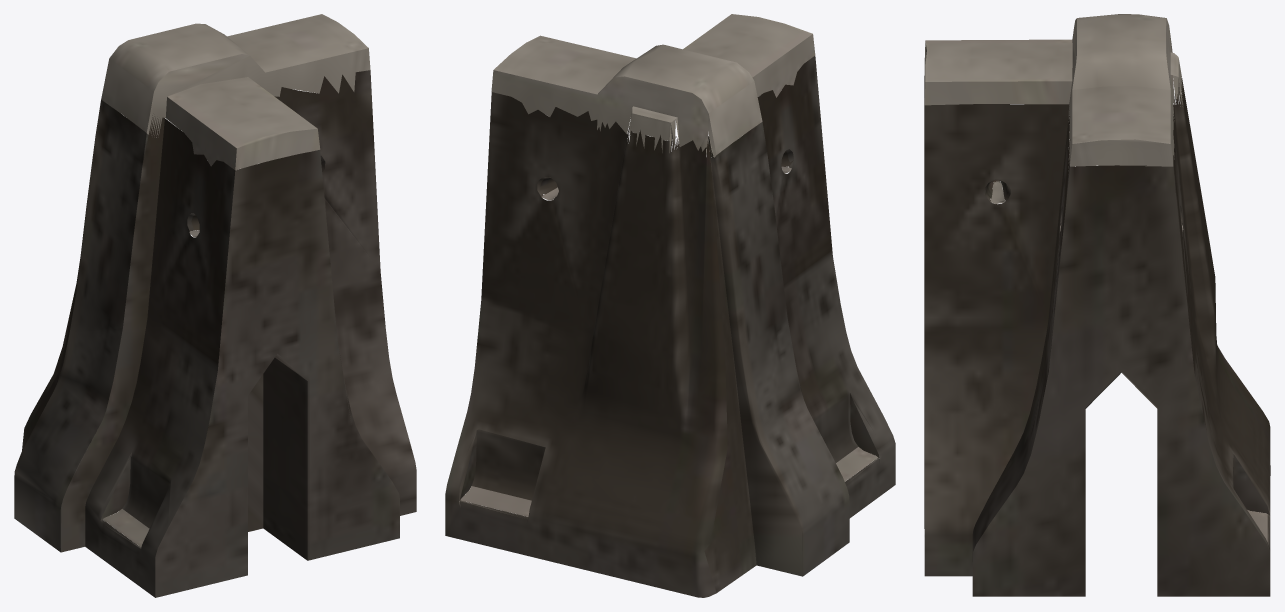
Rendered from stone-wall-es.glb.
3 renders of one model, left to right at view 1: azimuth 30°, elevation 25°; view 2: azimuth 150°, elevation 25°; view 3: azimuth 270°, elevation 25°, orthographic. The views are drawn at different scales.
Parts seen in each view (by area): view 1: body; view 2: body; view 3: body.
Boxes of the visible parts, <box> form: body: <box>14,14,416,597</box>; body: <box>445,14,895,597</box>; body: <box>924,14,1270,596</box>.
Bounding box in the file's own units: 0.9458 × 1.32 × 0.8638.
1 material, 1 textured.
